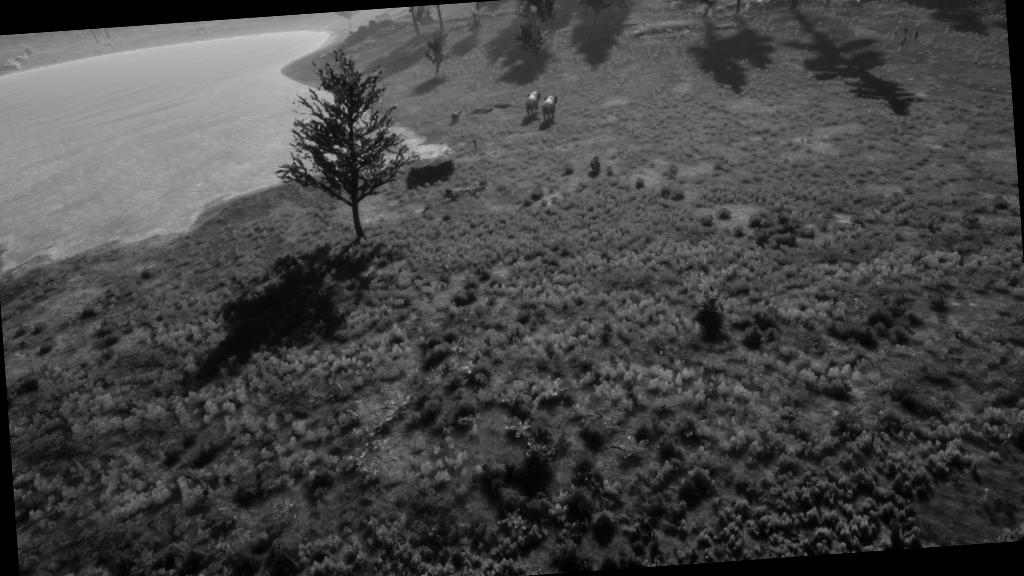Fire: (698, 2, 716, 20), (732, 0, 749, 17)
elephant: (536, 92, 560, 122), (523, 88, 541, 116), (450, 109, 464, 126)
human: (470, 138, 478, 150)
